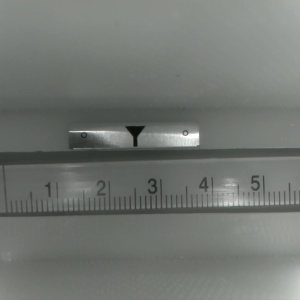1: (42, 183, 50, 198)
2: (95, 180, 106, 195)
3: (146, 178, 156, 194)
4: (197, 177, 208, 192)
5: (249, 176, 259, 192)
finger: (124, 126, 145, 147)
